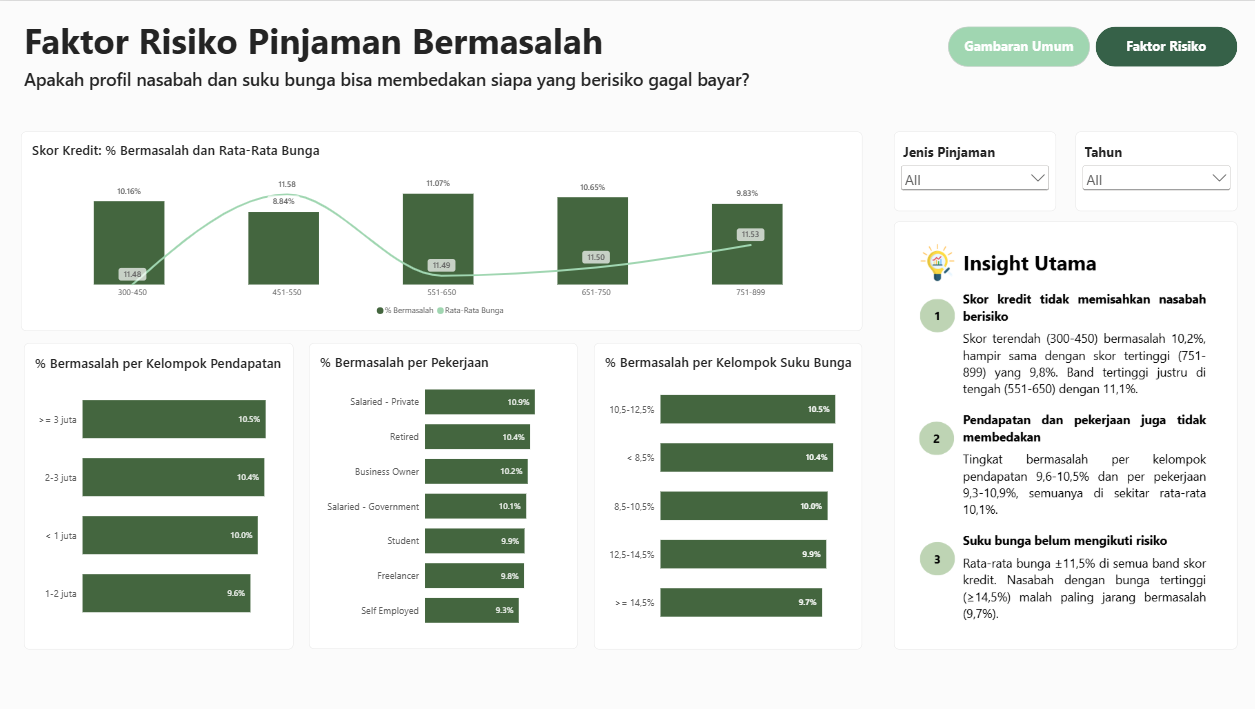

The dashboard page shown, as its layout file describes it:
{"tool":"powerbi","page":{"name":"Faktor Risiko","canvas":[1920,1080],"ordinal":1},"visuals":[{"type":"lineStackedColumnComboChart","title":"Skor Kredit: % Bermasalah dan Rata-Rata Bunga","fields":{"Category":["loan_analysis.score_band"],"Y":["loan_analysis.Pct Bermasalah"],"Y2":["Avg(loan_analysis.interest_rate)"]},"box":[36.3,197.6,1274.2,302.1],"z":1000},{"type":"textbox","box":[39.9,22.4,1203.9,79.8],"z":2000},{"type":"textbox","box":[41.1,101,1203.9,42.4],"z":3000},{"type":"clusteredBarChart","title":"% Bermasalah per Kelompok Pendapatan","fields":{"Category":["loan_analysis.income_band"],"Y":["loan_analysis.Pct Bermasalah"]},"box":[40.9,517.1,408,464],"z":4000},{"type":"barChart","title":"\t% Bermasalah per Pekerjaan","fields":{"Category":["loan_analysis.occupation"],"Y":["loan_analysis.Pct Bermasalah"]},"box":[473.2,518,406.6,463.3],"z":5000},{"type":"clusteredBarChart","title":"\t% Bermasalah per Kelompok Suku Bunga","fields":{"Category":["loan_analysis.rate_band"],"Y":["loan_analysis.Pct Bermasalah"]},"box":[904,518,406,464],"z":6000},{"type":"textbox","box":[1358,334,520,648],"z":7000,"group":"g1"},{"type":"slicer","fields":{"Values":["loan_analysis.loan_type"]},"box":[1358.2,197.6,245.3,120.4],"z":8000},{"type":"slicer","fields":{"Values":["loan_analysis.start_year"]},"box":[1633.1,197.6,245.3,120.4],"z":9000},{"type":"pageNavigator","box":[1440,38.6,438.4,61.3],"z":10000},{"type":"image","box":[1358,360,518,590],"z":10001,"group":"g1"},{"type":"group","id":"g1","title":"Group 1","box":[1358,334,520,648],"z":10002}]}

Visuals, with their boxes in screenshot pixels (x1, y1, x2, y2), scaled from the page's 1920x1080 canvas onto the 1255x709 screenshot:
"Skor Kredit: % Bermasalah dan Rata-Rata Bunga" lineStackedColumnComboChart: 24/130/857/328
textbox: 26/15/813/67
textbox: 27/66/814/94
"% Bermasalah per Kelompok Pendapatan" clusteredBarChart: 27/339/293/644
"	% Bermasalah per Pekerjaan" barChart: 309/340/575/644
"	% Bermasalah per Kelompok Suku Bunga" clusteredBarChart: 591/340/856/645
textbox: 888/219/1228/645
slicer - loan_analysis.loan_type: 888/130/1048/209
slicer - loan_analysis.start_year: 1067/130/1228/209
pageNavigator: 941/25/1228/66
image: 888/236/1226/624
"Group 1" group: 888/219/1228/645
